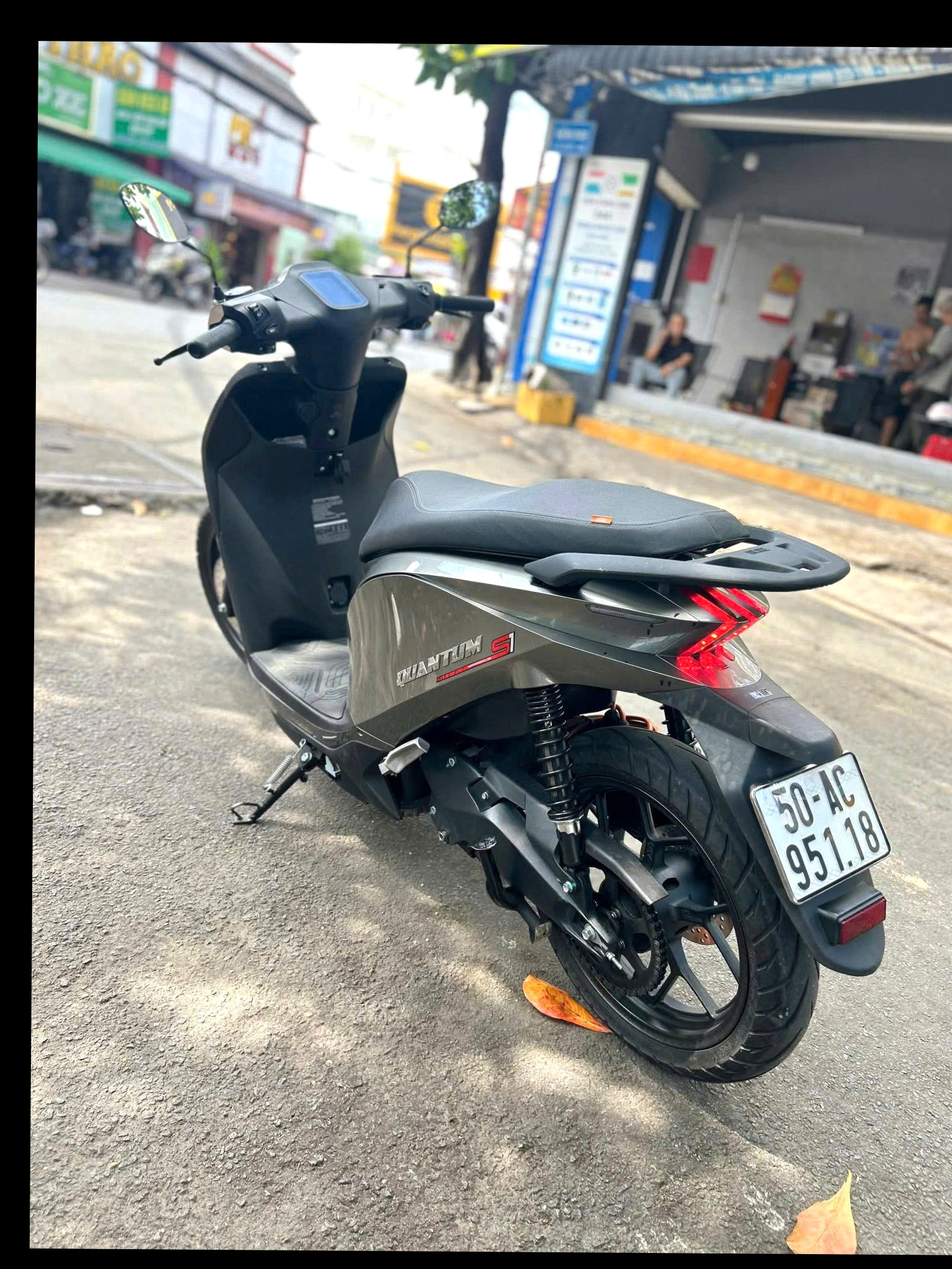Bien-so: (728, 773, 891, 944)
